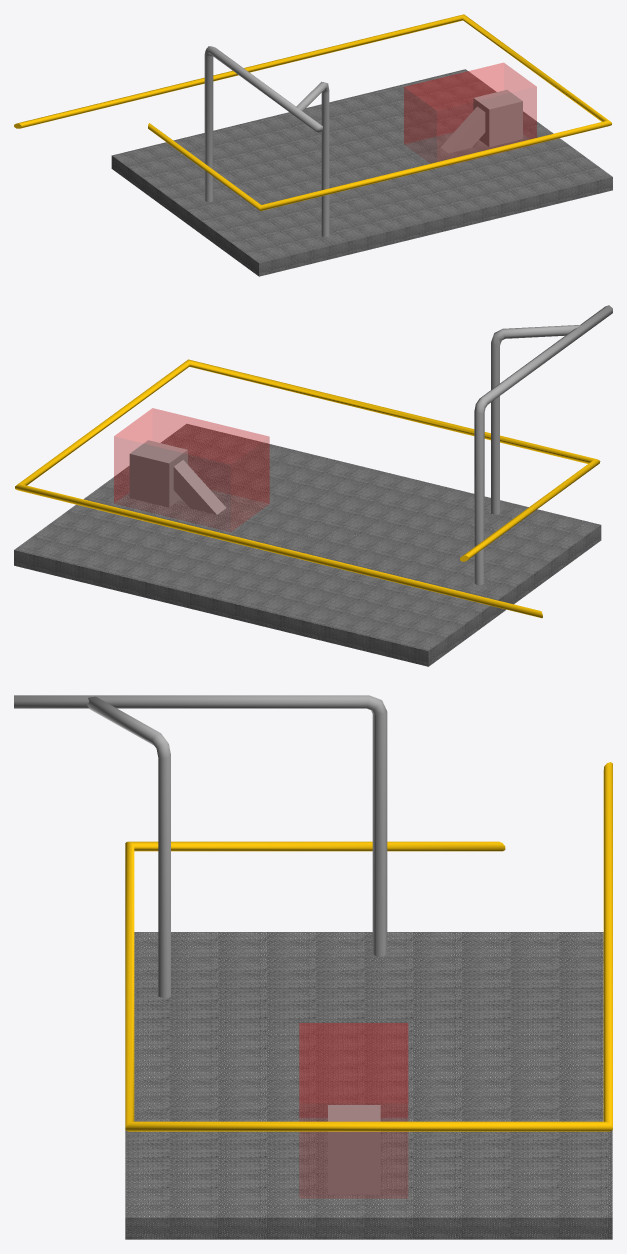
The model's file is NST-3.2F.glb.
3 renders of one model, top to bottom at view 1: azimuth 30°, elevation 25°; view 2: azimuth 150°, elevation 25°; view 3: azimuth 270°, elevation 25°, orthographic. The views are drawn at different scales.
Visible parts, largest first — view 1: floor-Box052, equipment-3M-be-406-0, Shape033, 3M-equipment, 3M-be-406; view 2: floor-Box052, equipment-3M-be-406-0, Shape033, 3M-equipment, 3M-be-406; view 3: floor-Box052, equipment-3M-be-406-0, Shape033, 3M-equipment, 3M-be-406.
Boxes of the visible parts, left/top/right/bottom form: floor-Box052: left=111, top=69, right=612, bottom=276; equipment-3M-be-406-0: left=404, top=63, right=536, bottom=162; Shape033: left=14, top=14, right=611, bottom=210; 3M-equipment: left=204, top=46, right=329, bottom=237; 3M-be-406: left=440, top=90, right=522, bottom=153; floor-Box052: left=14, top=424, right=601, bottom=666; equipment-3M-be-406-0: left=114, top=408, right=269, bottom=531; Shape033: left=15, top=359, right=600, bottom=618; 3M-equipment: left=474, top=305, right=612, bottom=584; 3M-be-406: left=129, top=440, right=226, bottom=514; floor-Box052: left=125, top=932, right=612, bottom=1239; equipment-3M-be-406-0: left=299, top=1023, right=407, bottom=1197; Shape033: left=125, top=762, right=612, bottom=1131; 3M-equipment: left=14, top=695, right=387, bottom=998; 3M-be-406: left=328, top=1105, right=380, bottom=1194.
Bounding box in the file's own units: 7.08 × 2.54 × 4.92.
Materials: 4 (1 with a texture image).
